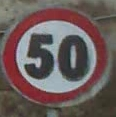limite 50: (0, 4, 110, 107)
